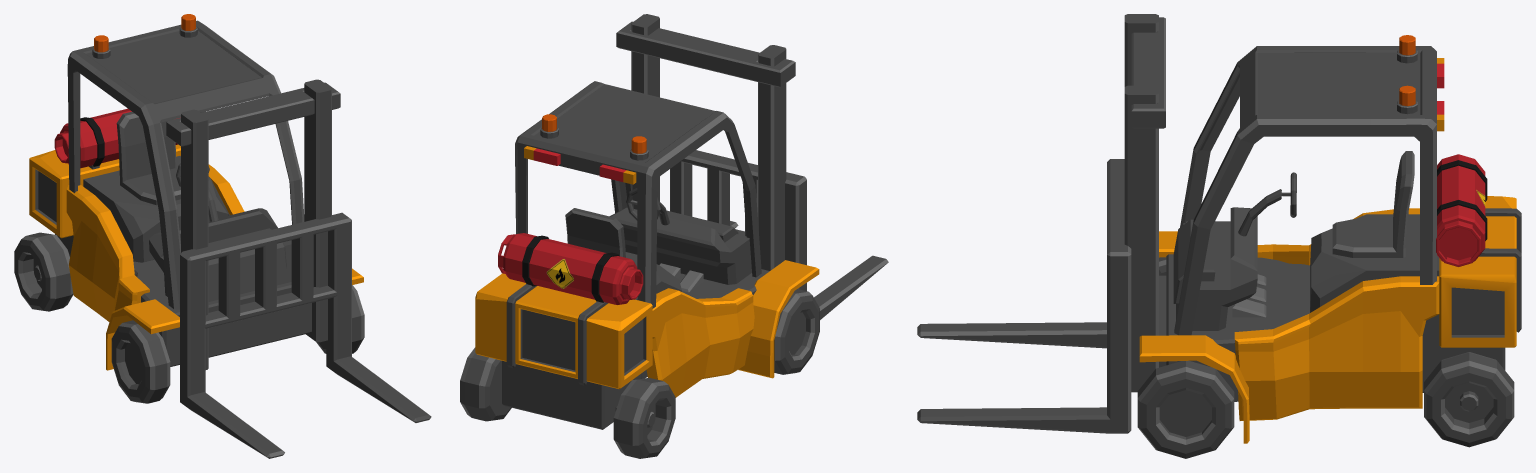
Rendered from Forklift.fbx.
The picture shows the model from 3 angles, left to right: view 1: azimuth 30°, elevation 25°; view 2: azimuth 150°, elevation 25°; view 3: azimuth 270°, elevation 25°; orthographic projection. The views are drawn at different scales.
Visible parts, largest first — view 1: Forklift, Lift, Wheel_R_Front, Wheel_R_Back, Wheel_L_Front; view 2: Forklift, Lift, Wheel_R_Back, Wheel_R_Front, Wheel_L_Back; view 3: Forklift, Lift, Wheel_L_Front, Wheel_L_Back.
Part boxes in pixels (box(x1,y1,x2,y2)): Forklift: box(29, 14, 363, 370); Lift: box(180, 212, 431, 458); Wheel_R_Front: box(111, 320, 170, 403); Wheel_R_Back: box(14, 232, 73, 311); Wheel_L_Front: box(316, 285, 364, 353); Forklift: box(475, 14, 819, 429); Lift: box(631, 150, 888, 319); Wheel_R_Back: box(613, 377, 675, 458); Wheel_R_Front: box(774, 289, 819, 374); Wheel_L_Back: box(460, 347, 511, 421); Forklift: box(1124, 14, 1521, 443); Lift: box(917, 159, 1131, 433); Wheel_L_Front: box(1137, 360, 1234, 458); Wheel_L_Back: box(1424, 352, 1514, 447).
Size of the model in its own units: 638 by 807 by 1282.
